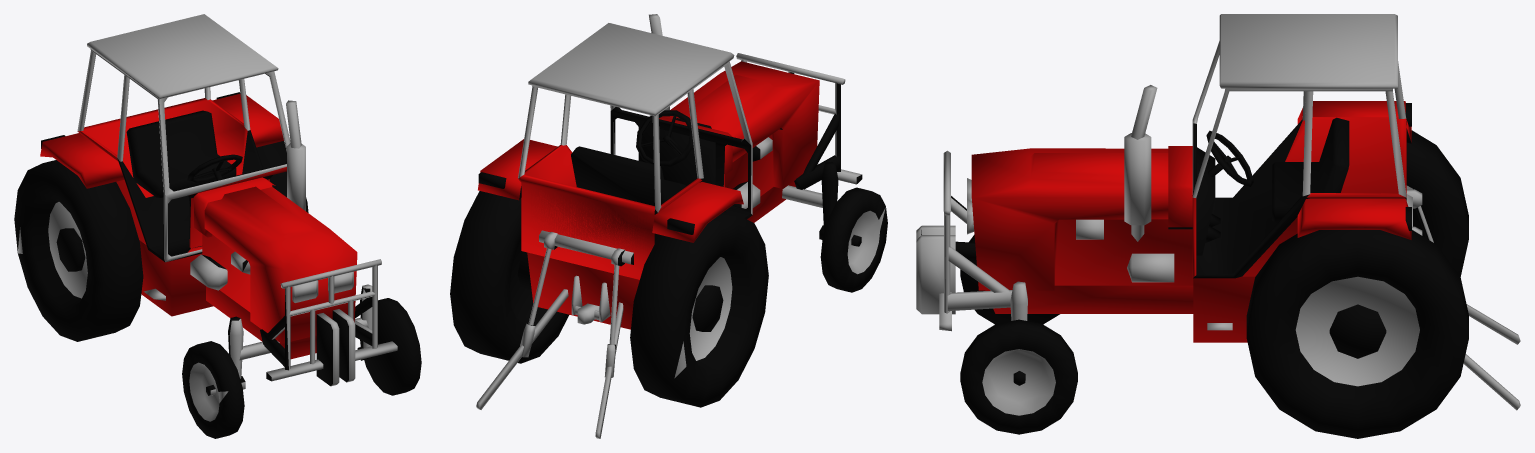
File: tractor.obj
3 renders of one model, left to right at view 1: azimuth 30°, elevation 25°; view 2: azimuth 150°, elevation 25°; view 3: azimuth 270°, elevation 25°, orthographic. The views are drawn at different scales.
Visible parts, largest first — view 1: Mesh_Mesh_tractor; view 2: Mesh_Mesh_tractor; view 3: Mesh_Mesh_tractor.
Boxes of the visible parts, bbox=[...] form: Mesh_Mesh_tractor: bbox=[14, 14, 421, 438]; Mesh_Mesh_tractor: bbox=[450, 14, 887, 438]; Mesh_Mesh_tractor: bbox=[916, 14, 1520, 438].
Bounding box in the file's own units: 0.8822 × 1.08 × 1.8.
